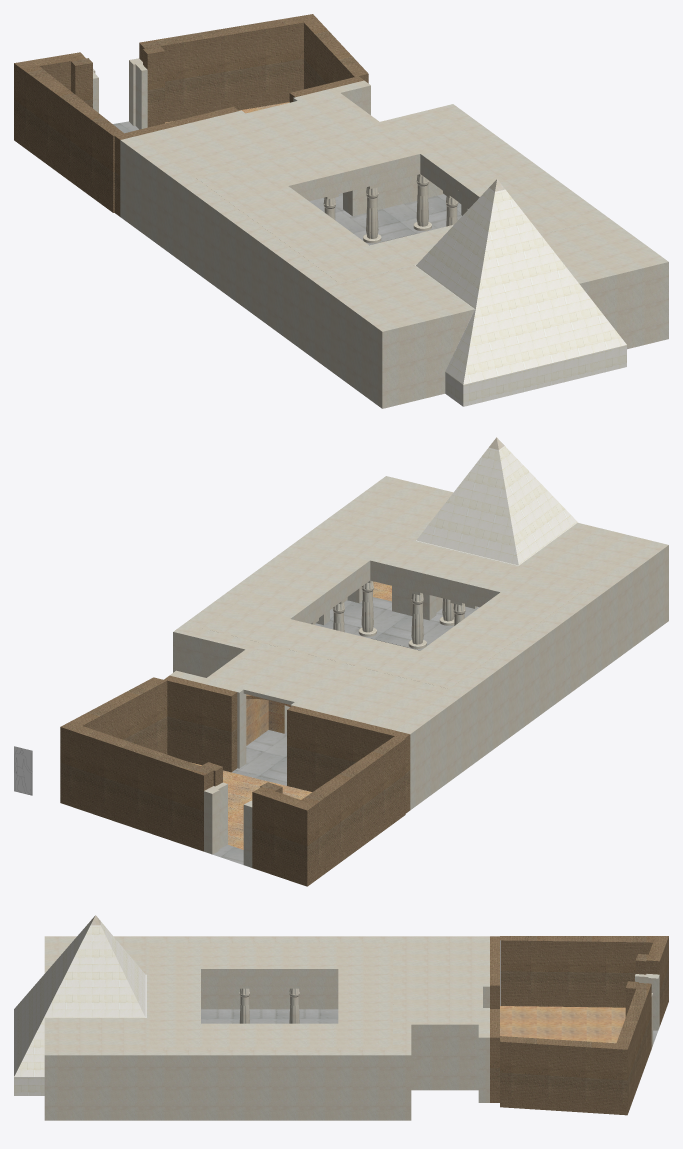
File: Pay_Raia.glb
The picture shows the model from 3 angles, top to bottom: view 1: azimuth 30°, elevation 25°; view 2: azimuth 150°, elevation 25°; view 3: azimuth 270°, elevation 25°; orthographic projection. The views are drawn at different scales.
Parts seen in each view (by area): view 1: Mesh32 Model, Mesh26 ROOF1 Model, Mesh25 architrave1 Model, Mesh6 Component_8_3 Model, Mesh20 Component_8_10 Model; view 2: Mesh32 Model, Mesh26 ROOF1 Model, Mesh25 architrave1 Model, Mesh33 Model; view 3: Mesh32 Model, Mesh26 ROOF1 Model, Mesh25 architrave1 Model, Mesh4 Component_8_2 Model, Mesh22 Component_8_11 Model.
Boxes of the visible parts, x1,y1,x2,y2 form: Mesh32 Model: [14, 14, 668, 408]; Mesh26 ROOF1 Model: [195, 116, 590, 283]; Mesh25 architrave1 Model: [298, 163, 474, 208]; Mesh6 Component_8_3 Model: [366, 184, 381, 238]; Mesh20 Component_8_10 Model: [416, 174, 428, 226]; Mesh32 Model: [60, 437, 668, 886]; Mesh26 ROOF1 Model: [201, 523, 591, 688]; Mesh25 architrave1 Model: [300, 569, 490, 623]; Mesh33 Model: [14, 746, 32, 795]; Mesh32 Model: [14, 915, 668, 1120]; Mesh26 ROOF1 Model: [146, 943, 393, 1047]; Mesh25 architrave1 Model: [201, 976, 338, 986]; Mesh4 Component_8_2 Model: [239, 986, 250, 1023]; Mesh22 Component_8_11 Model: [289, 986, 299, 1023].
Bounding box in the file's own units: 11.8 × 6.15 × 24.46.
Materials: 9 (8 with a texture image).
